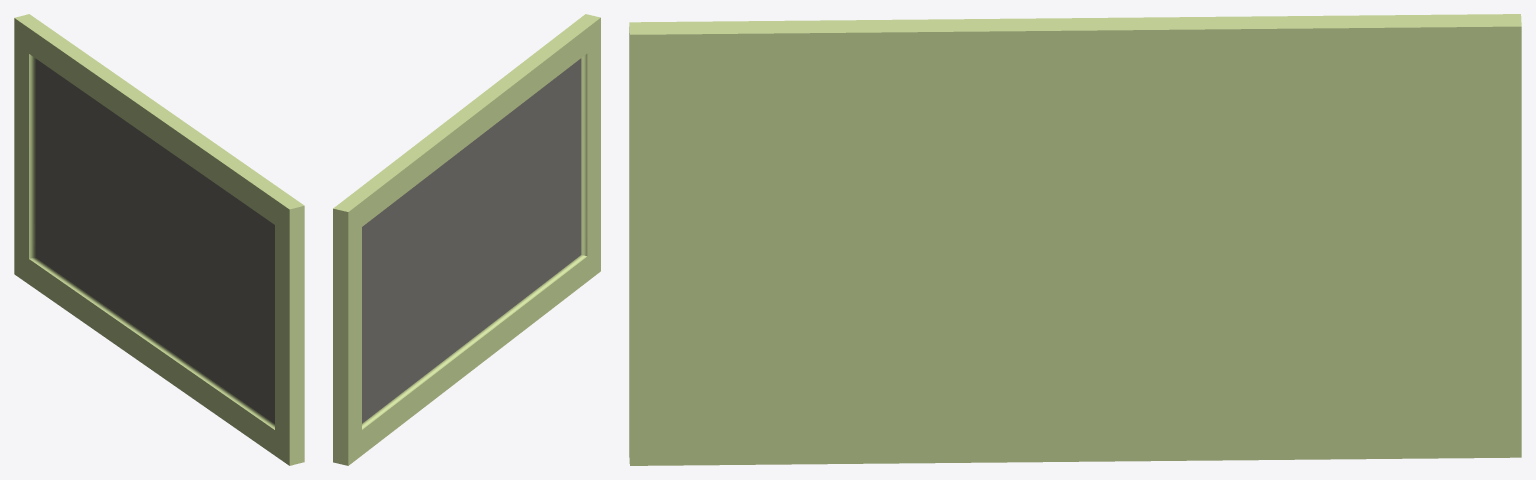
Rendered from Mirror.fbx.
3 renders of one model, left to right at view 1: azimuth 30°, elevation 25°; view 2: azimuth 150°, elevation 25°; view 3: azimuth 270°, elevation 25°, orthographic. The views are drawn at different scales.
Parts seen in each view (by area): view 1: mirror; view 2: mirror; view 3: mirror.
Boxes of the visible parts, x1,y1,x2,y2 form: mirror: [14, 14, 304, 465]; mirror: [333, 14, 600, 465]; mirror: [629, 14, 1521, 465].
Size of the model in its own units: 0.0778 by 0.7511 by 1.41.
